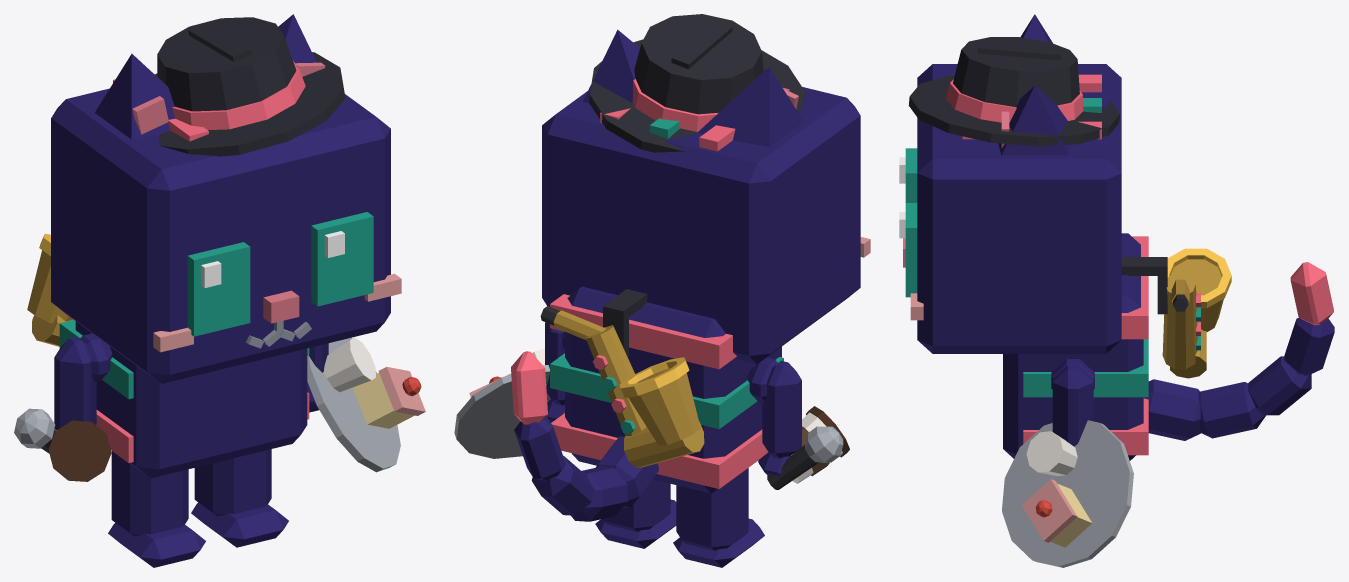
The model's file is CatCafe_Cat_Neon_Work.glb.
3 views of the same model, side by side, from view 1: azimuth 30°, elevation 25°; view 2: azimuth 150°, elevation 25°; view 3: azimuth 270°, elevation 25° (orthographic). The views are drawn at different scales.
Parts seen in each view (by area): view 1: CatCafe_Cat_Neon_Work_Head, CatCafe_Cat_Neon_Work_Body, CatCafe_Cat_Neon_Work_Prop, CatCafe_Cat_Neon_Work_Held_Waiter, CatCafe_Cat_Neon_Work_LegB2, CatCafe_Cat_Neon_Work_LegB1, CatCafe_Cat_Neon_Work_Eye2, CatCafe_Cat_Neon_Work_Eye1, CatCafe_Cat_Neon_Work_EarR, CatCafe_Cat_Neon_Work_LegF2, CatCafe_Cat_Neon_Work_Held_Barista, CatCafe_Cat_Neon_Work_Glow (+4 smaller); view 2: CatCafe_Cat_Neon_Work_Head, CatCafe_Cat_Neon_Work_Body, CatCafe_Cat_Neon_Work_Prop, CatCafe_Cat_Neon_Work_Prop2, CatCafe_Cat_Neon_Work_Tail, CatCafe_Cat_Neon_Work_LegB2, CatCafe_Cat_Neon_Work_Held_Waiter, CatCafe_Cat_Neon_Work_EarR, CatCafe_Cat_Neon_Work_LegF2, CatCafe_Cat_Neon_Work_LegB1, CatCafe_Cat_Neon_Work_Held_Entertainer, CatCafe_Cat_Neon_Work_EarL (+3 smaller); view 3: CatCafe_Cat_Neon_Work_Head, CatCafe_Cat_Neon_Work_Held_Waiter, CatCafe_Cat_Neon_Work_Body, CatCafe_Cat_Neon_Work_Prop, CatCafe_Cat_Neon_Work_Tail, CatCafe_Cat_Neon_Work_Prop2, CatCafe_Cat_Neon_Work_EarL, CatCafe_Cat_Neon_Work_LegF1, CatCafe_Cat_Neon_Work_Glow, CatCafe_Cat_Neon_Work_Eye1, CatCafe_Cat_Neon_Work_Eye2.
Part boxes in pixels (x1=…): CatCafe_Cat_Neon_Work_Head: x1=51, y1=79, x2=401, y2=383; CatCafe_Cat_Neon_Work_Body: x1=59, y1=320, x2=309, y2=478; CatCafe_Cat_Neon_Work_Prop: x1=155, y1=17, x2=345, y2=156; CatCafe_Cat_Neon_Work_Held_Waiter: x1=307, y1=337, x2=425, y2=472; CatCafe_Cat_Neon_Work_LegB2: x1=108, y1=451, x2=205, y2=567; CatCafe_Cat_Neon_Work_LegB1: x1=191, y1=449, x2=288, y2=547; CatCafe_Cat_Neon_Work_Eye2: x1=187, y1=242, x2=250, y2=336; CatCafe_Cat_Neon_Work_Eye1: x1=311, y1=212, x2=373, y2=306; CatCafe_Cat_Neon_Work_EarR: x1=95, y1=53, x2=175, y2=139; CatCafe_Cat_Neon_Work_LegF2: x1=54, y1=336, x2=96, y2=430; CatCafe_Cat_Neon_Work_Held_Barista: x1=48, y1=420, x2=111, y2=481; CatCafe_Cat_Neon_Work_Glow: x1=172, y1=61, x2=305, y2=129; CatCafe_Cat_Neon_Work_Head: x1=542, y1=87, x2=870, y2=364; CatCafe_Cat_Neon_Work_Body: x1=550, y1=286, x2=783, y2=493; CatCafe_Cat_Neon_Work_Prop: x1=589, y1=14, x2=805, y2=152; CatCafe_Cat_Neon_Work_Prop2: x1=540, y1=289, x2=704, y2=467; CatCafe_Cat_Neon_Work_Tail: x1=511, y1=351, x2=658, y2=521; CatCafe_Cat_Neon_Work_LegB2: x1=673, y1=468, x2=764, y2=567; CatCafe_Cat_Neon_Work_Held_Waiter: x1=454, y1=348, x2=550, y2=458; CatCafe_Cat_Neon_Work_EarR: x1=698, y1=66, x2=803, y2=147; CatCafe_Cat_Neon_Work_LegF2: x1=758, y1=361, x2=801, y2=475; CatCafe_Cat_Neon_Work_LegB1: x1=595, y1=479, x2=676, y2=548; CatCafe_Cat_Neon_Work_Held_Entertainer: x1=767, y1=426, x2=843, y2=489; CatCafe_Cat_Neon_Work_EarL: x1=583, y1=29, x2=639, y2=103; CatCafe_Cat_Neon_Work_Head: x1=903, y1=64, x2=1121, y2=353; CatCafe_Cat_Neon_Work_Held_Waiter: x1=1002, y1=420, x2=1133, y2=567; CatCafe_Cat_Neon_Work_Body: x1=1003, y1=233, x2=1148, y2=460; CatCafe_Cat_Neon_Work_Prop: x1=908, y1=37, x2=1119, y2=146; CatCafe_Cat_Neon_Work_Tail: x1=1143, y1=262, x2=1334, y2=440; CatCafe_Cat_Neon_Work_Prop2: x1=1121, y1=248, x2=1231, y2=378; CatCafe_Cat_Neon_Work_EarL: x1=998, y1=86, x2=1070, y2=155; CatCafe_Cat_Neon_Work_LegF1: x1=1052, y1=365, x2=1093, y2=446; CatCafe_Cat_Neon_Work_Glow: x1=945, y1=79, x2=1083, y2=122; CatCafe_Cat_Neon_Work_Eye1: x1=899, y1=203, x2=917, y2=297; CatCafe_Cat_Neon_Work_Eye2: x1=899, y1=148, x2=917, y2=202.
Size of the model in its own units: 1.53 by 1.95 by 1.62.
Materials: 1 (1 with a texture image).
